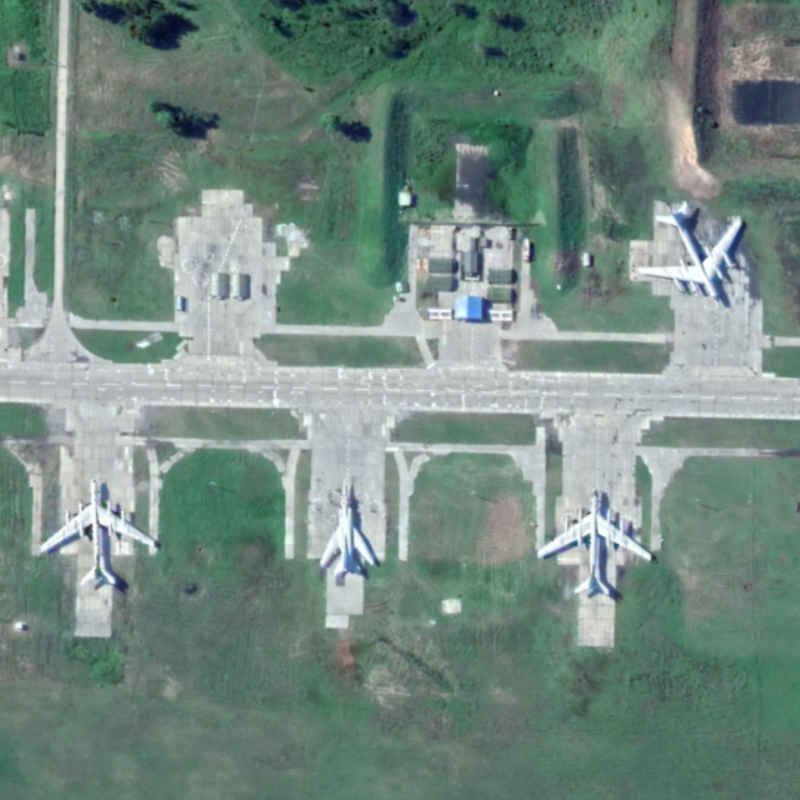A12: (316, 477, 378, 579)
A17: (39, 476, 158, 589), (534, 487, 654, 599), (634, 198, 745, 306)
